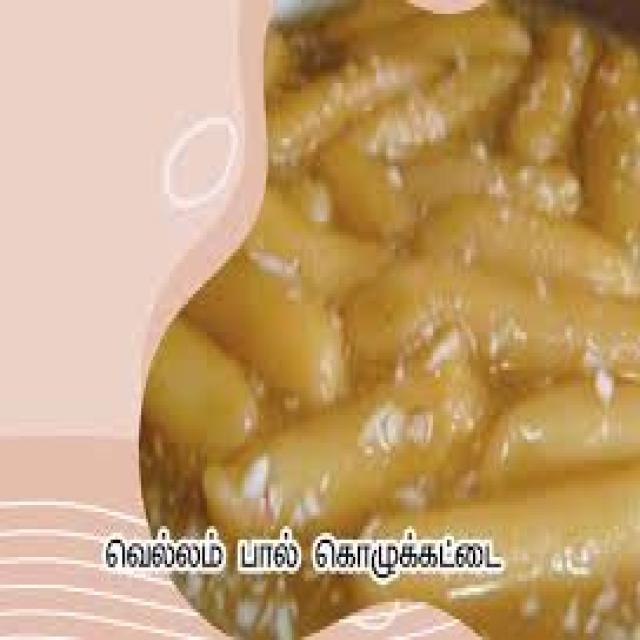paal kolukattai: (260, 10, 640, 514)
